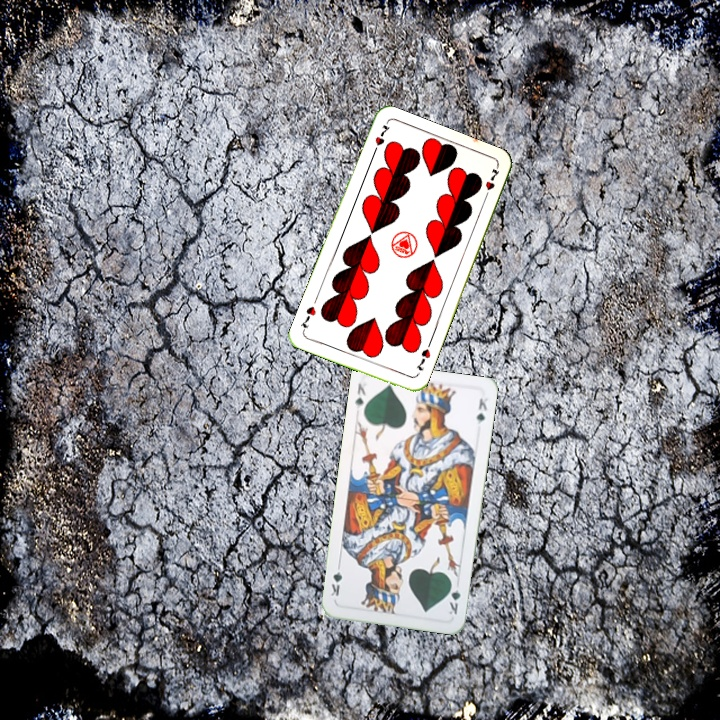GK: (445, 577, 463, 619), (351, 379, 368, 412)
H7: (368, 121, 392, 158), (412, 345, 433, 373)
